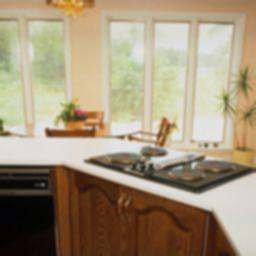Electrodomestico: (85, 139, 252, 197), (1, 169, 51, 255)
